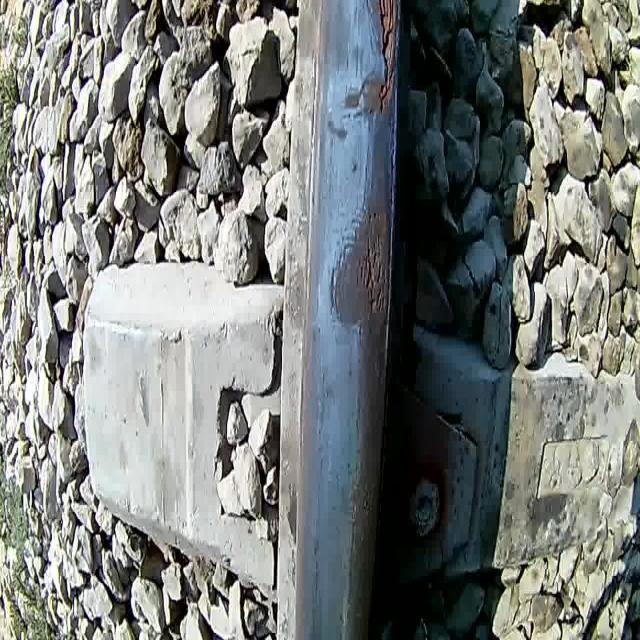Spallings: (356, 203, 387, 316), (375, 0, 397, 115)
Squats: (326, 126, 391, 349), (340, 0, 400, 122)
